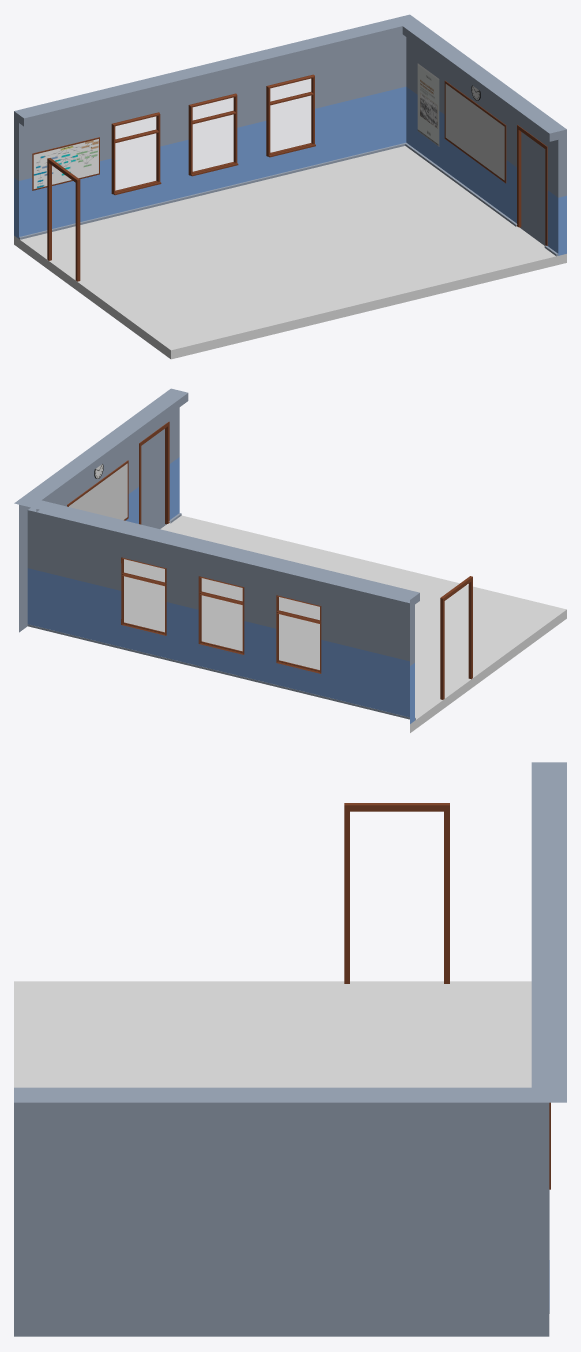
The model's file is Room_Aula11.fbx.
3 views of the same model, one above another, from view 1: azimuth 30°, elevation 25°; view 2: azimuth 150°, elevation 25°; view 3: azimuth 270°, elevation 25° (orthographic). The views are drawn at different scales.
Visible parts, largest first — view 1: Aula11_Base; view 2: Aula11_Base; view 3: Aula11_Base.
Boxes of the visible parts, x1,y1,x2,y2 form: Aula11_Base: (14,14,566,359); Aula11_Base: (14,388,566,732); Aula11_Base: (14,762,566,1336).
Size of the model in its own units: 4545 by 1464 by 3121.
Materials: 9 (3 with a texture image).
